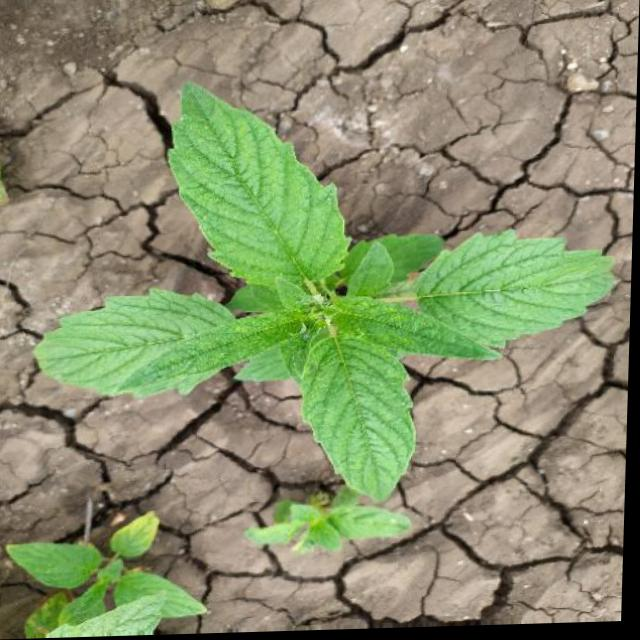crop: (33, 86, 623, 517)
